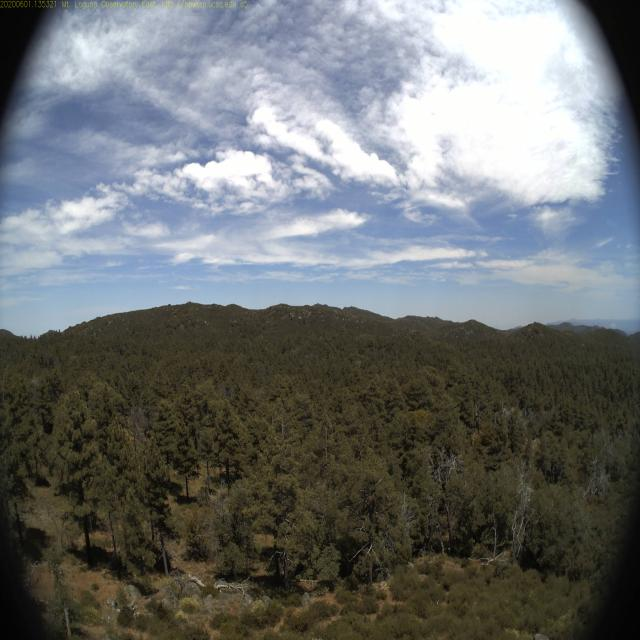smoke: (606, 316, 618, 334)
